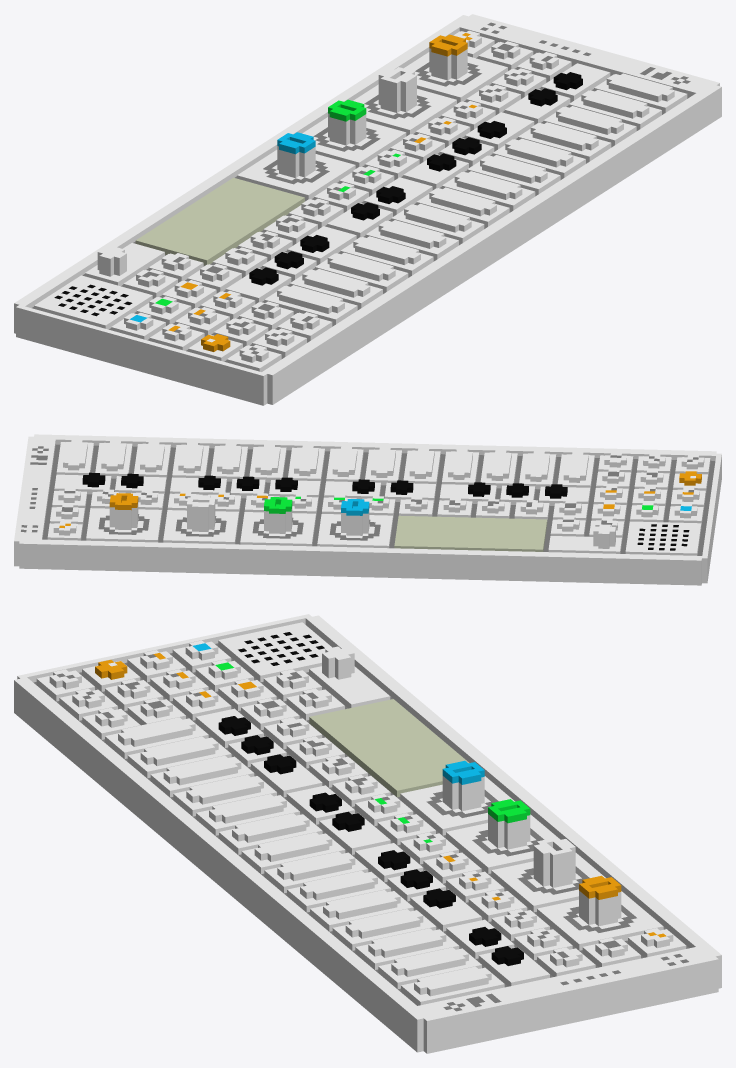
Rendered from op_one.glb.
3 renders of one model, top to bottom at view 1: azimuth 30°, elevation 25°; view 2: azimuth 150°, elevation 25°; view 3: azimuth 270°, elevation 25°, orthographic. The views are drawn at different scales.
Visible parts, largest first — view 1: Object_2; view 2: Object_2; view 3: Object_2.
Boxes of the visible parts, x1,y1,x2,y2 form: Object_2: (14,14,721,405); Object_2: (14,434,721,585); Object_2: (14,614,721,1053).
Bounding box in the file's own units: 0.2822 × 0.0213 × 0.2075.
Materials: 1 (1 with a texture image).
